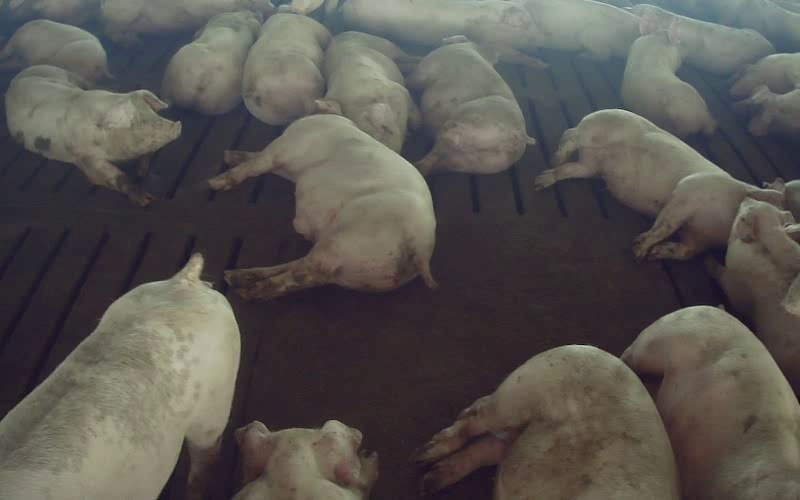pig: (0, 254, 239, 499), (209, 101, 435, 299), (414, 346, 677, 499), (535, 109, 782, 258), (622, 306, 799, 499), (409, 36, 533, 174), (339, 0, 544, 67), (323, 31, 420, 152), (622, 17, 715, 137), (626, 4, 774, 74), (162, 10, 260, 114), (242, 13, 330, 124), (523, 0, 639, 59), (101, 0, 273, 39)
